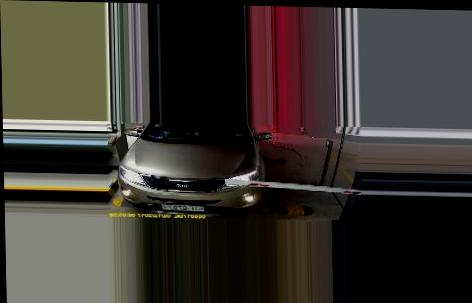License_Plate: (160, 201, 208, 213)
